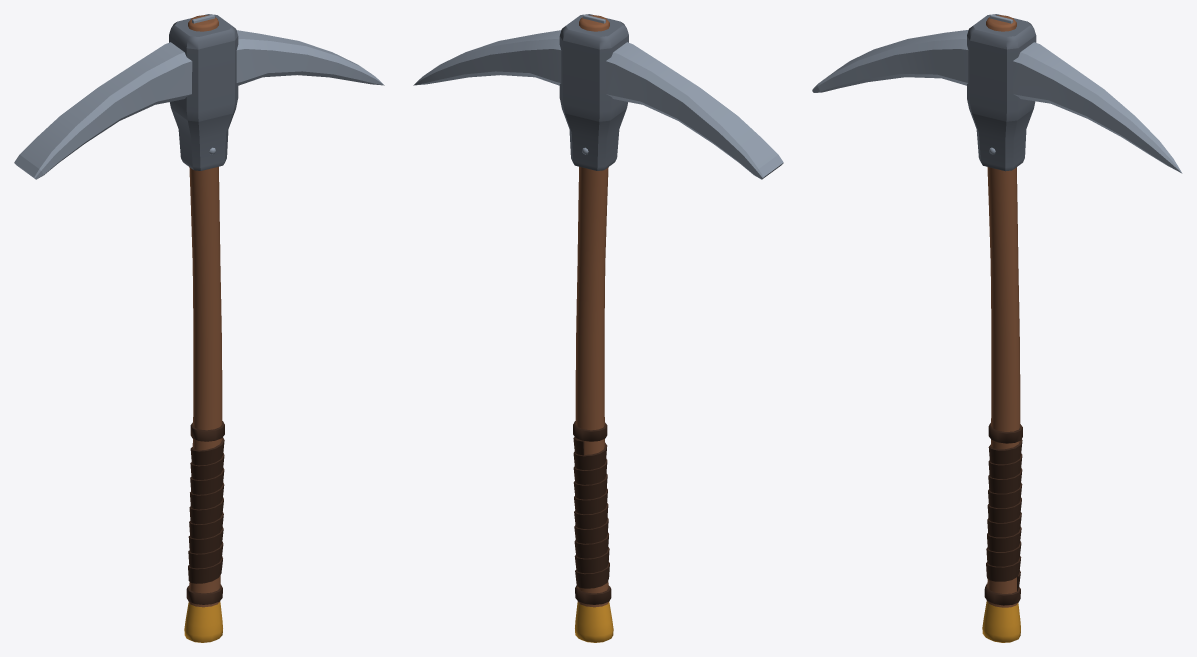
The model's file is Pickaxe.fbx.
3 views of the same model, side by side, from view 1: azimuth 30°, elevation 25°; view 2: azimuth 150°, elevation 25°; view 3: azimuth 330°, elevation 25° (orthographic).
Parts seen in each view (by area): view 1: Pickaxe_Head, Pickaxe_Handle, Pickaxe_Socket, Pickaxe_Wrap, Pickaxe_HandleEnd; view 2: Pickaxe_Head, Pickaxe_Handle, Pickaxe_Socket, Pickaxe_Wrap, Pickaxe_HandleEnd; view 3: Pickaxe_Head, Pickaxe_Handle, Pickaxe_Socket, Pickaxe_Wrap, Pickaxe_HandleEnd.
Boxes of the visible parts, box(x1,y1,x2,y2) form: Pickaxe_Head: box(14, 30, 384, 179); Pickaxe_Handle: box(188, 15, 222, 607); Pickaxe_Socket: box(169, 14, 238, 170); Pickaxe_Wrap: box(186, 421, 224, 604); Pickaxe_HandleEnd: box(184, 602, 222, 642); Pickaxe_Head: box(413, 30, 783, 179); Pickaxe_Handle: box(575, 15, 609, 607); Pickaxe_Socket: box(559, 14, 628, 170); Pickaxe_Wrap: box(573, 421, 611, 604); Pickaxe_HandleEnd: box(575, 602, 613, 642); Pickaxe_Head: box(812, 30, 1182, 173); Pickaxe_Handle: box(986, 15, 1020, 607); Pickaxe_Socket: box(967, 14, 1036, 171); Pickaxe_Wrap: box(984, 423, 1022, 605); Pickaxe_HandleEnd: box(982, 601, 1020, 642).
Size of the model in its own units: 49.53 by 81.5 by 6.24.
